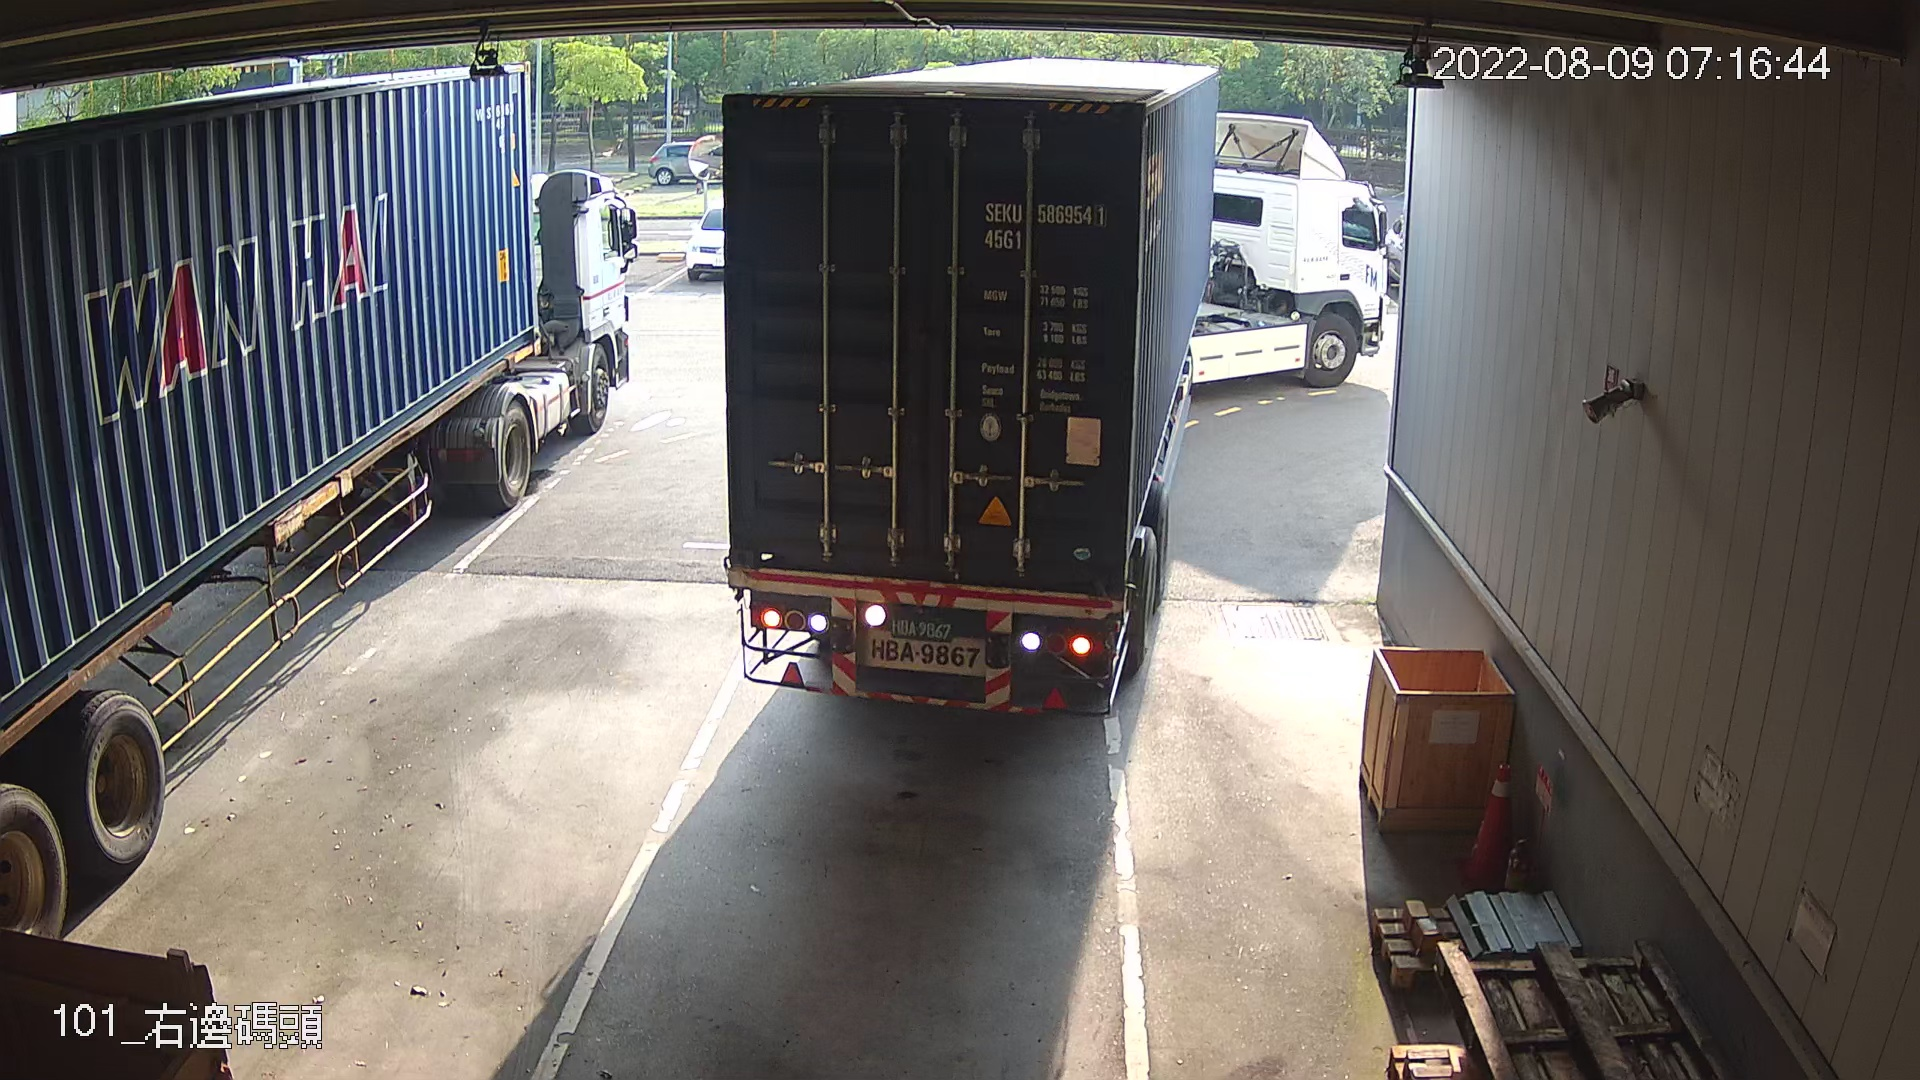container: (972, 193, 1116, 262)
